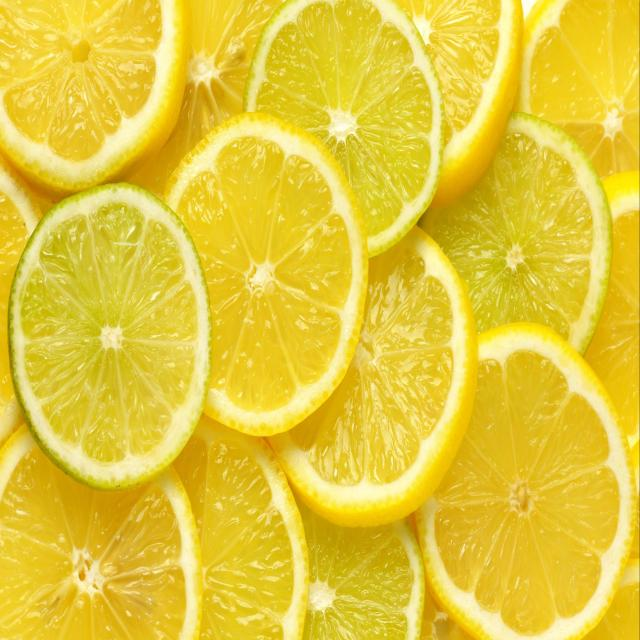lemon: (412, 318, 640, 640)
